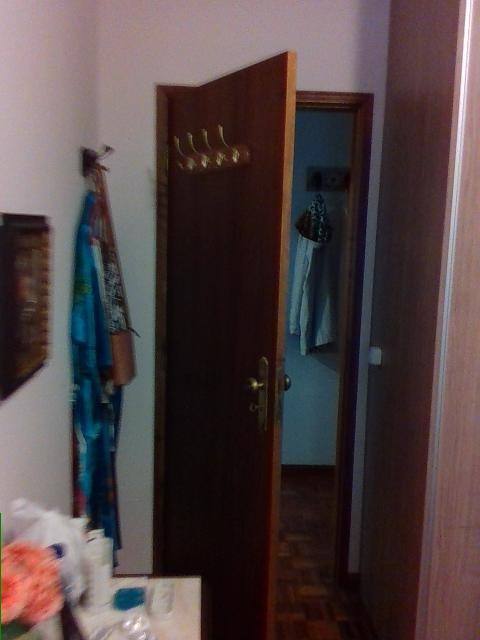semi_door: (152, 45, 376, 637)
